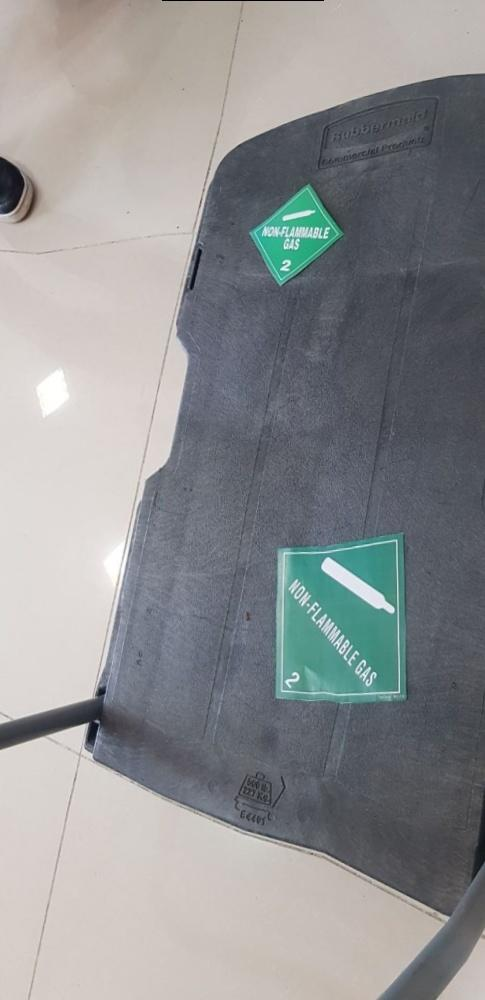non-flammable-gas: (276, 534, 411, 702), (246, 181, 351, 288)
